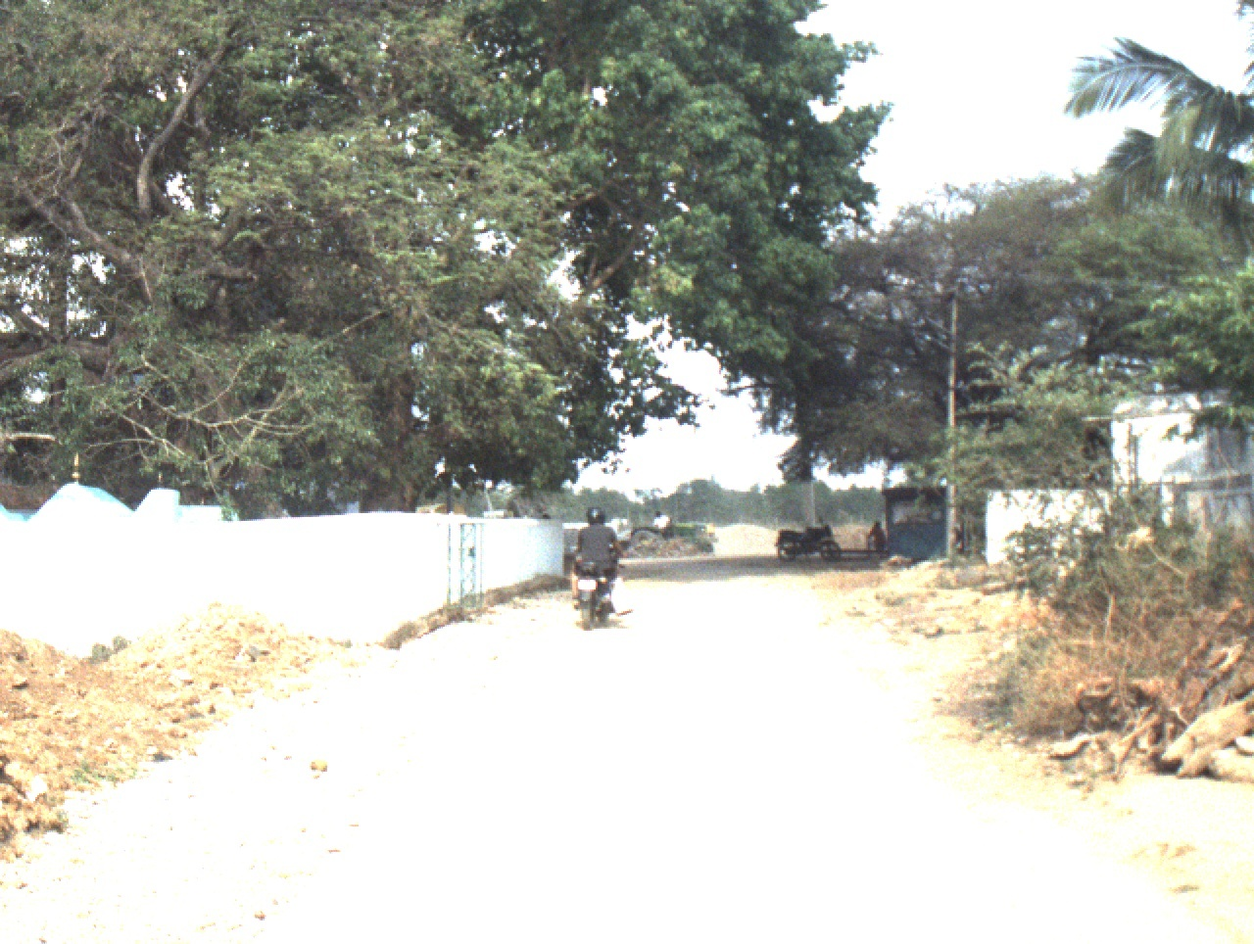motorcycle: (571, 543, 622, 630), (774, 516, 843, 562)
person: (865, 521, 886, 561)
rider: (568, 506, 628, 608), (651, 511, 672, 537)
vehicle fallback: (616, 517, 716, 559), (415, 501, 466, 518)
